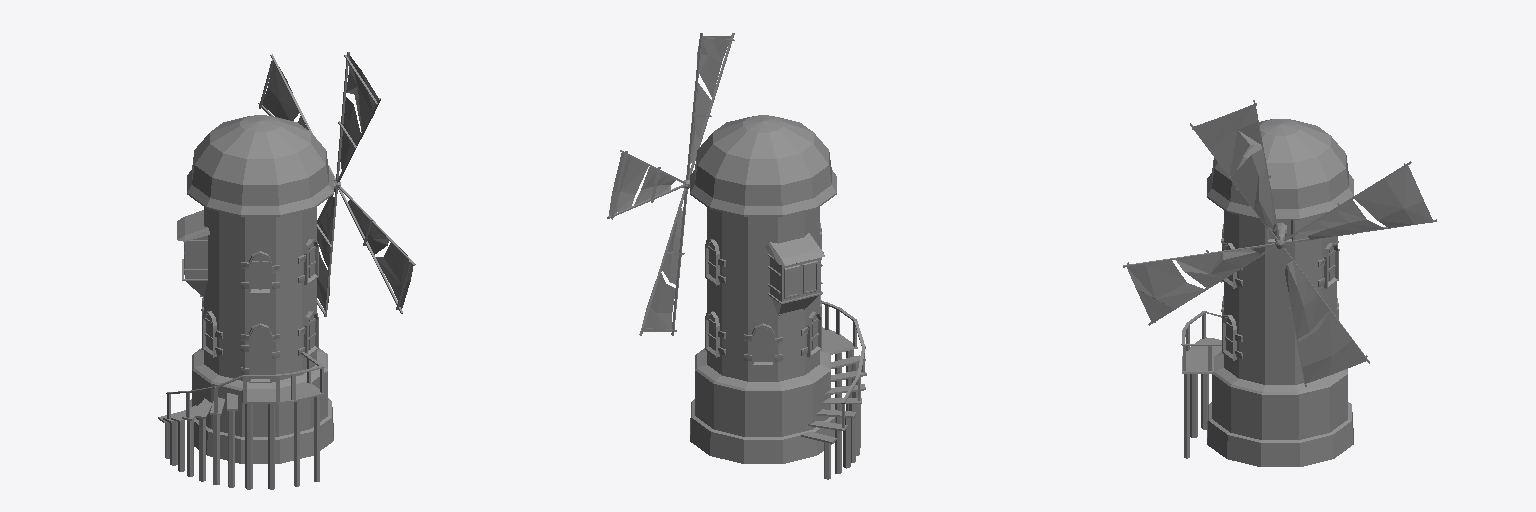
The model's file is WindMill.obj.
3 views of the same model, side by side, from view 1: azimuth 30°, elevation 25°; view 2: azimuth 150°, elevation 25°; view 3: azimuth 270°, elevation 25° (orthographic).
Visible parts, largest first — view 1: mill; view 2: mill; view 3: mill.
Part boxes in pixels (x1,y1,x2,y2): mill: (158,52,415,489); mill: (607,33,866,479); mill: (1123,100,1436,466).
Bounding box in the file's own units: 55.86 × 121 × 88.6.